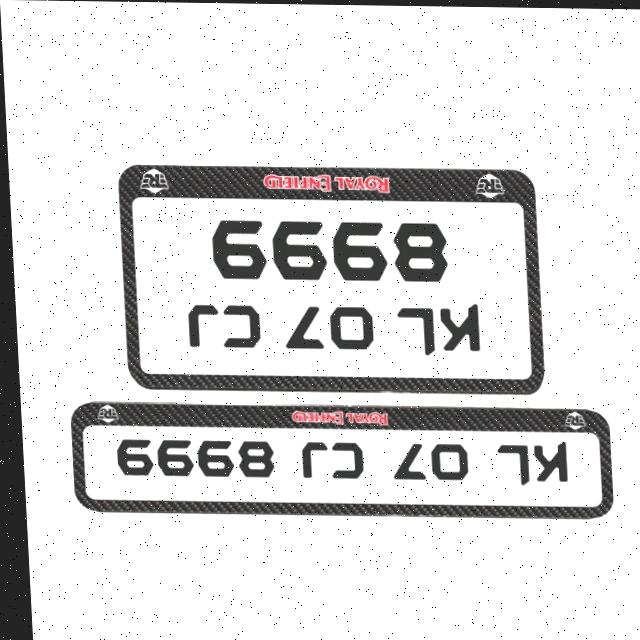plate: (115, 160, 544, 393), (63, 398, 614, 521)
